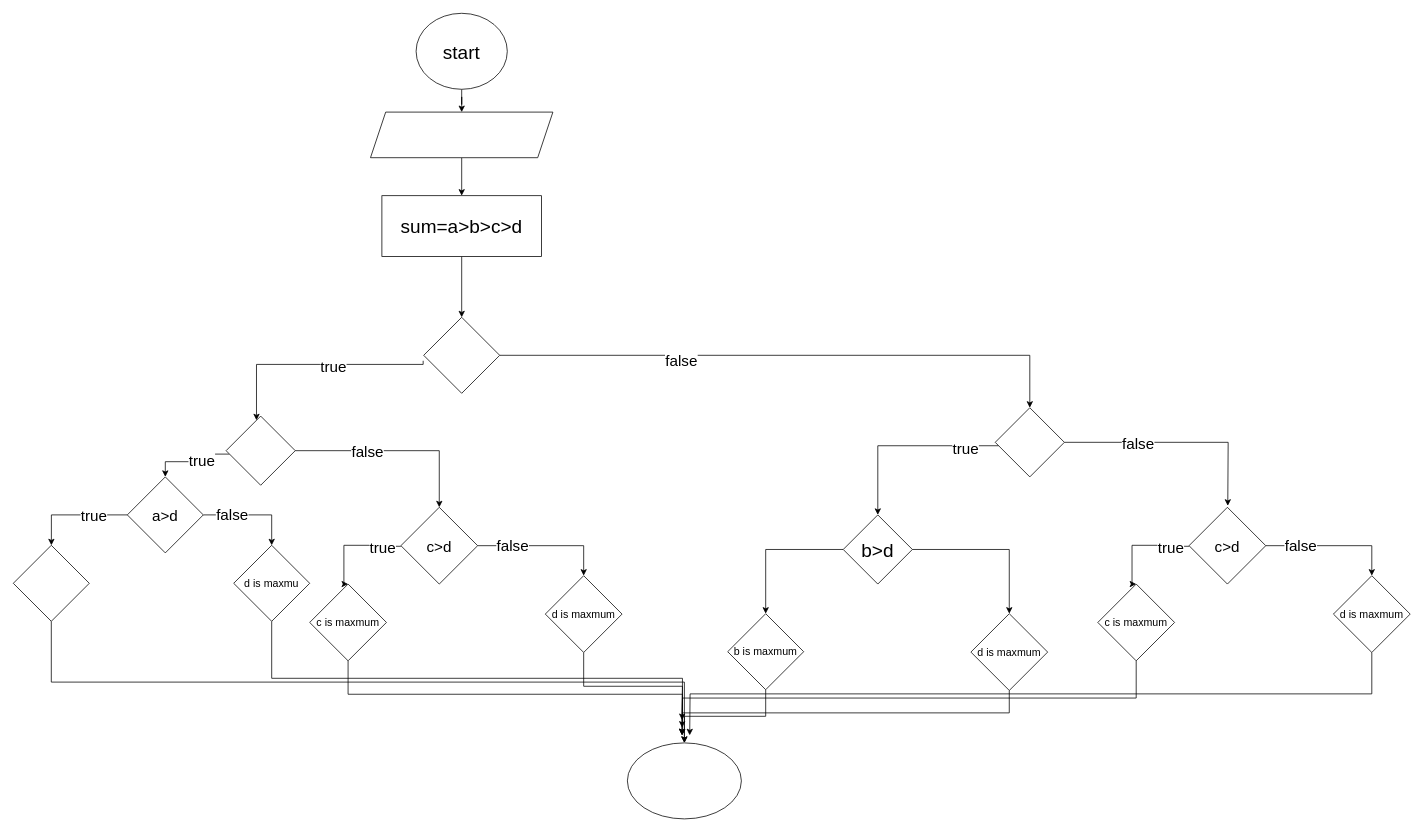
This 1423x832 diagram has some shape labels left out. The shapes that lost their labels are listed below. From the top down, each one's box as (x1, y1, x2, y2) in pixels, then its label:
(370, 111, 553, 158): daclared four variable
(423, 317, 500, 393): a>b
(225, 415, 295, 485): a>c
(994, 407, 1064, 477): b>c
(13, 545, 89, 621): a is maxmum
(627, 742, 741, 819): End
